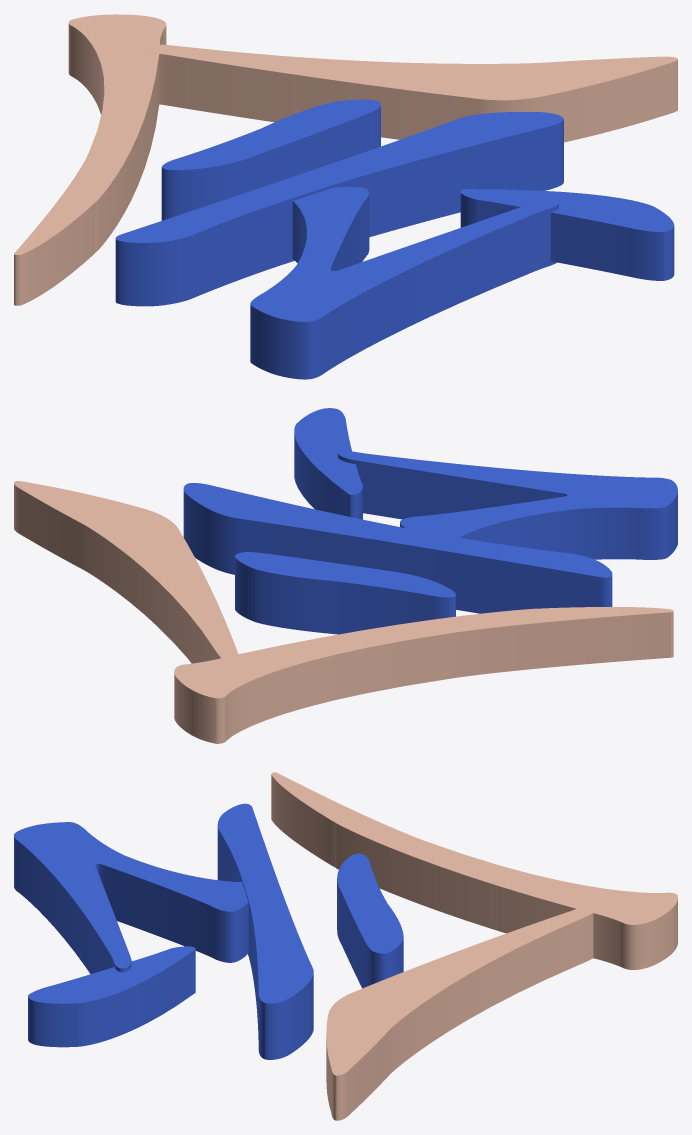
File: hanzi33.fbx
The picture shows the model from 3 angles, top to bottom: view 1: azimuth 30°, elevation 25°; view 2: azimuth 150°, elevation 25°; view 3: azimuth 270°, elevation 25°; orthographic projection. The views are drawn at different scales.
Visible parts, largest first — view 1: Curve.003, Curve.001, Curve.004, Curve, Curve.002, Curve.005; view 2: Curve, Curve.003, Curve.004, Curve.001, Curve.002, Curve.005; view 3: Curve, Curve.001, Curve.004, Curve.003, Curve.005, Curve.002.
Part boxes in pixels (left/top/right/bottom): Curve.003: left=115, top=112, right=563, bottom=306; Curve.001: left=140, top=44, right=677, bottom=142; Curve.004: left=250, top=186, right=558, bottom=379; Curve: left=14, top=14, right=166, bottom=305; Curve.002: left=161, top=99, right=380, bottom=220; Curve.005: left=460, top=189, right=674, bottom=280; Curve: left=174, top=607, right=673, bottom=743; Curve.003: left=183, top=483, right=612, bottom=613; Curve.004: left=337, top=450, right=677, bottom=559; Curve.001: left=14, top=481, right=239, bottom=663; Curve.002: left=235, top=552, right=455, bottom=634; Curve.005: left=294, top=408, right=362, bottom=519; Curve: left=271, top=772, right=677, bottom=969; Curve.001: left=326, top=905, right=599, bottom=1120; Curve.004: left=14, top=822, right=248, bottom=974; Curve.003: left=217, top=803, right=313, bottom=1059; Curve.005: left=28, top=946, right=195, bottom=1047; Curve.002: left=337, top=853, right=403, bottom=988.
Bounding box in the file's own units: 25.68 × 23.75 × 2.23.
